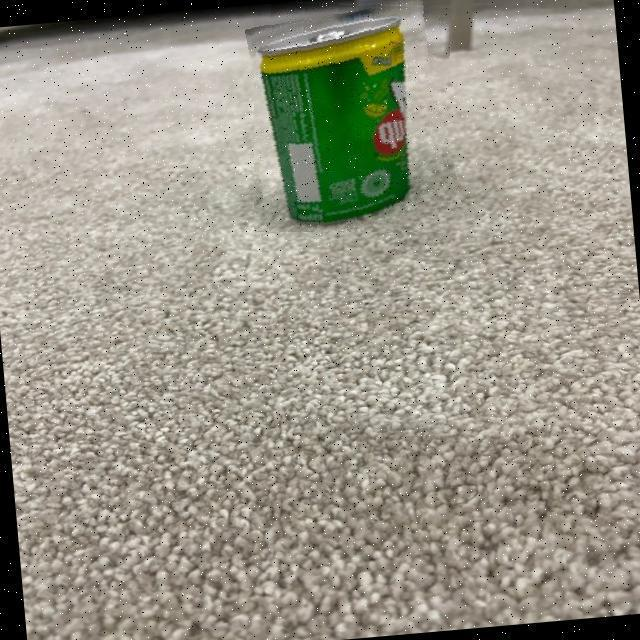recyclable: (254, 2, 453, 232)
